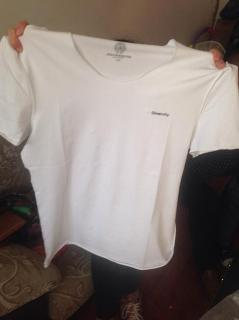short sleeve top: (0, 25, 239, 270)
